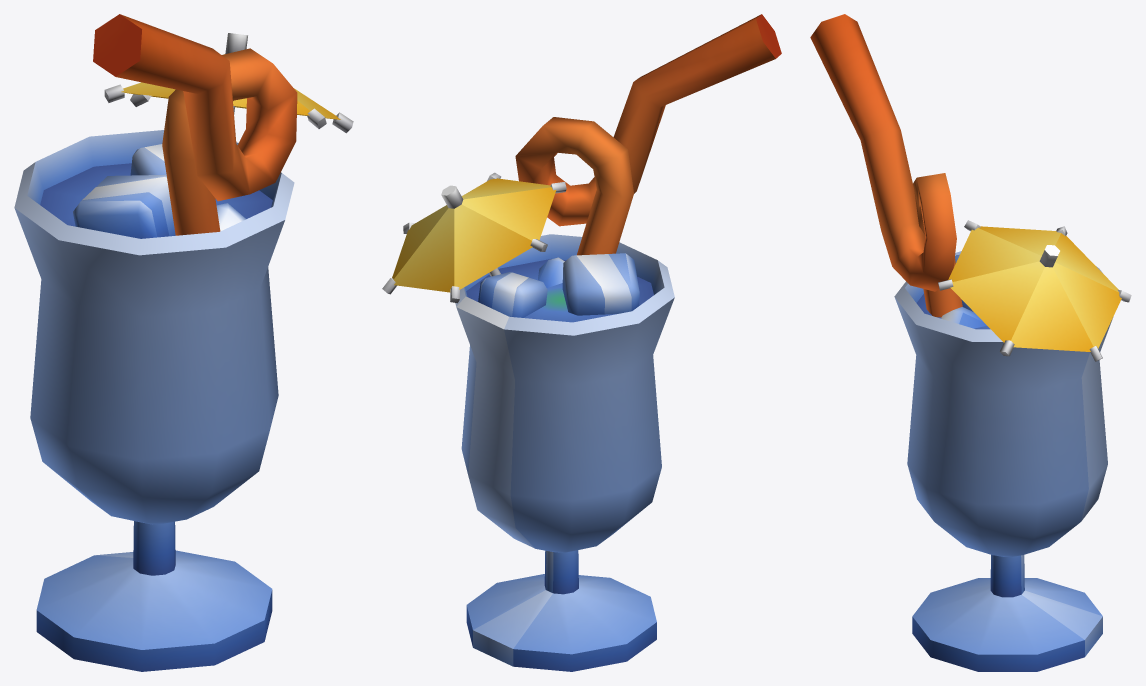
Rendered from m_Cocktail31.fbx.
The picture shows the model from 3 angles, left to right: view 1: azimuth 30°, elevation 25°; view 2: azimuth 150°, elevation 25°; view 3: azimuth 270°, elevation 25°; orthographic projection. The views are drawn at different scales.
Visible parts, largest first — view 1: m_Cocktail31; view 2: m_Cocktail31; view 3: m_Cocktail31.
Part boxes in pixels (x1,y1,x2,y2): m_Cocktail31: [14, 14, 353, 671]; m_Cocktail31: [382, 14, 781, 671]; m_Cocktail31: [810, 14, 1131, 671].
Size of the model in its own units: 17.3 by 32.78 by 16.85.
